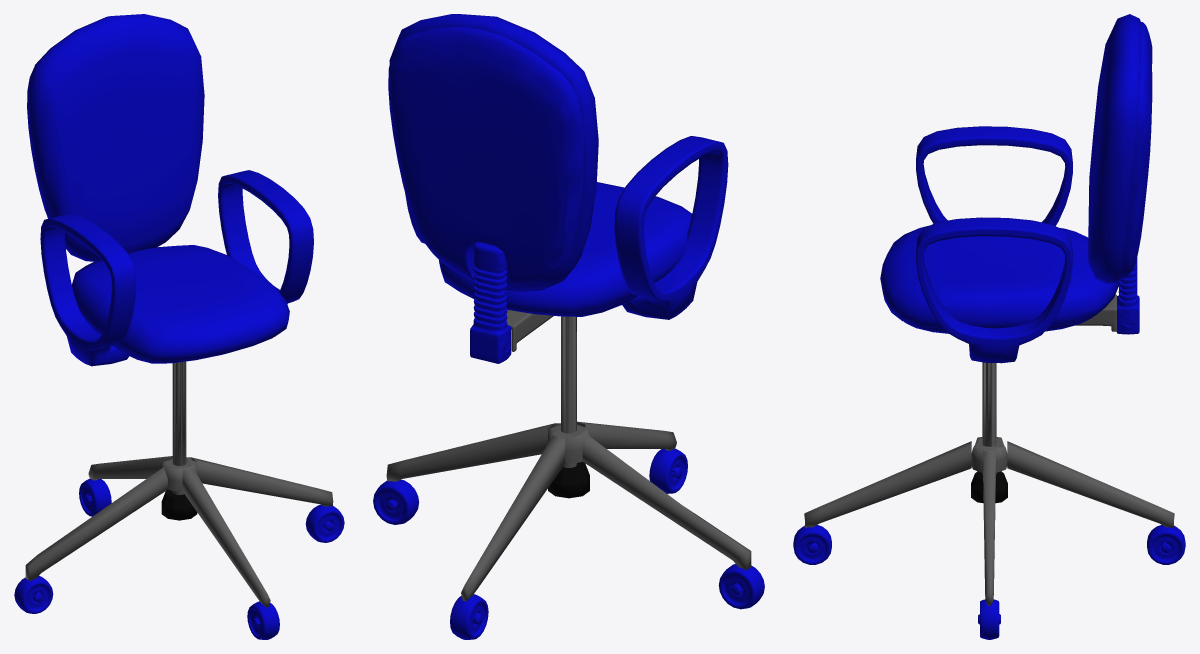
Rendered from chair-high-blue.obj.
3 views of the same model, side by side, from view 1: azimuth 30°, elevation 25°; view 2: azimuth 150°, elevation 25°; view 3: azimuth 270°, elevation 25° (orthographic). The views are drawn at different scales.
Visible parts, largest first — view 1: chair-high_Material.033, chair-high_Material.034, chair-high_Material.001; view 2: chair-high_Material.033, chair-high_Material.034, chair-high_Material.001; view 3: chair-high_Material.033, chair-high_Material.034, chair-high_Material.001.
Part boxes in pixels (x1,y1,x2,y2): chair-high_Material.033: [14, 14, 344, 639]; chair-high_Material.034: [25, 361, 333, 607]; chair-high_Material.001: [161, 490, 197, 520]; chair-high_Material.033: [373, 14, 764, 639]; chair-high_Material.034: [386, 310, 751, 601]; chair-high_Material.001: [548, 461, 589, 498]; chair-high_Material.033: [793, 14, 1185, 639]; chair-high_Material.034: [804, 294, 1174, 605]; chair-high_Material.001: [971, 471, 1007, 503].
Bounding box in the file's own units: 38.33 × 57.99 × 38.33.
